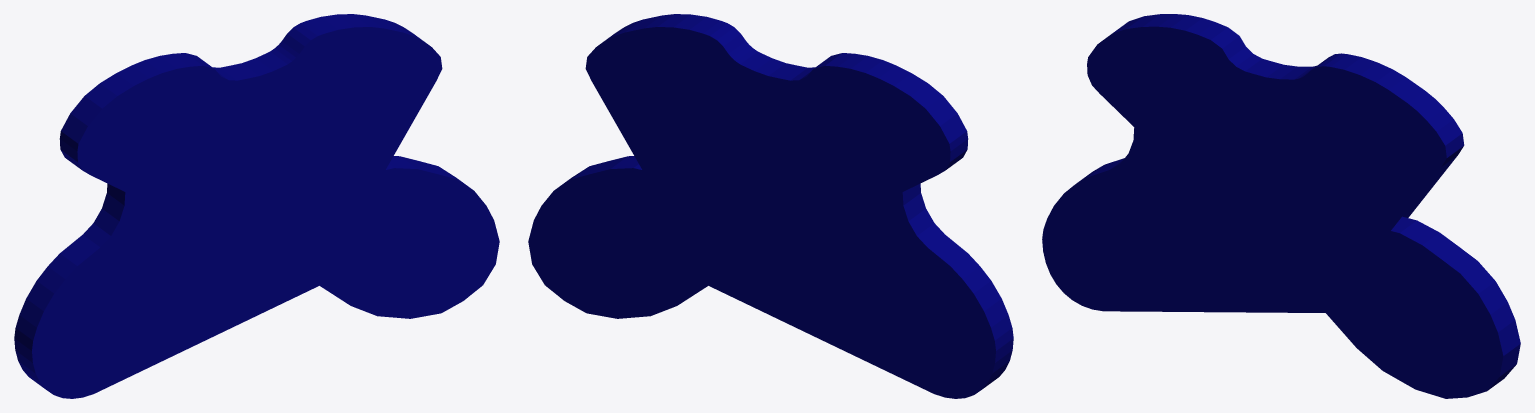
The model's file is pensmid.obj.
The picture shows the model from 3 angles, left to right: view 1: azimuth 30°, elevation 25°; view 2: azimuth 150°, elevation 25°; view 3: azimuth 330°, elevation 25°; orthographic projection.
Parts seen in each view (by area): view 1: logo_Circle.001; view 2: logo_Circle.001; view 3: logo_Circle.001.
Boxes of the visible parts, <box> form: logo_Circle.001: <box>14,14,499,398</box>; logo_Circle.001: <box>528,14,1013,398</box>; logo_Circle.001: <box>1042,14,1520,398</box>.
Size of the model in its own units: 5.03 by 3.17 by 0.3288.
